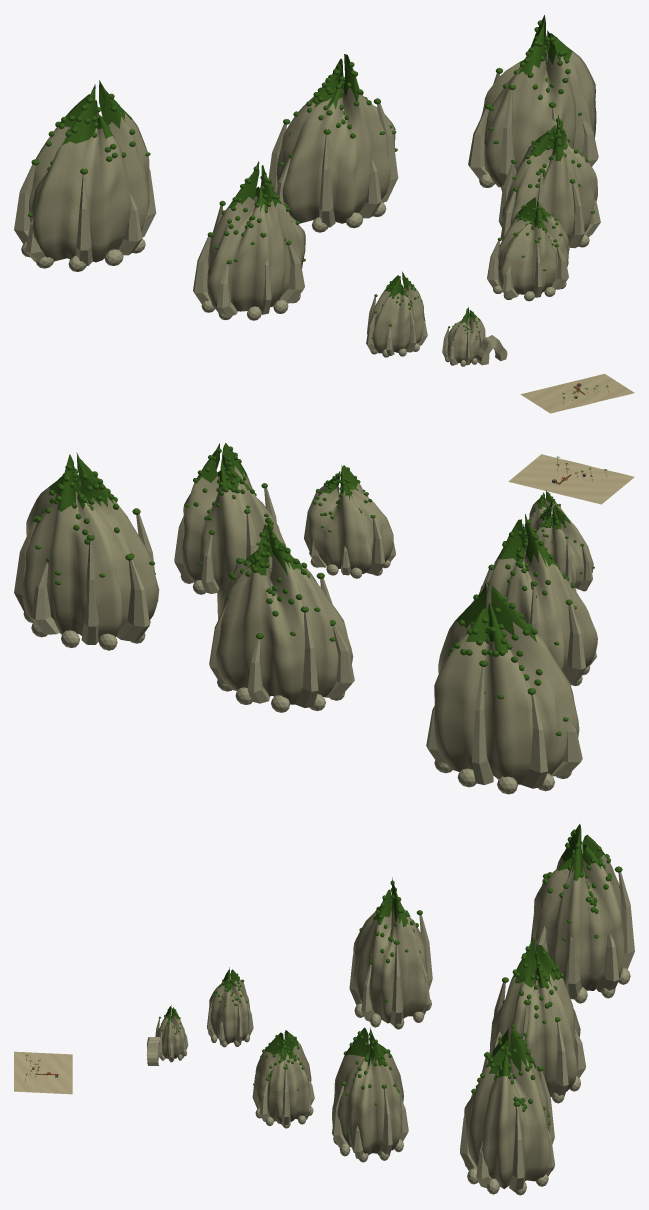
File: phuket_midday.glb
3 views of the same model, one above another, from view 1: azimuth 30°, elevation 25°; view 2: azimuth 150°, elevation 25°; view 3: azimuth 270°, elevation 25° (orthographic). The views are drawn at different scales.
Parts seen in each view (by area): view 1: PhuketMidday_Landscape; view 2: PhuketMidday_Landscape; view 3: PhuketMidday_Landscape.
Part boxes in pixels (x1,y1,x2,y2): PhuketMidday_Landscape: [14, 15, 634, 413]; PhuketMidday_Landscape: [14, 443, 634, 794]; PhuketMidday_Landscape: [14, 824, 634, 1195].
Bounding box in the file's own units: 1336 × 400 × 1379.
Materials: 9 (9 with a texture image).
